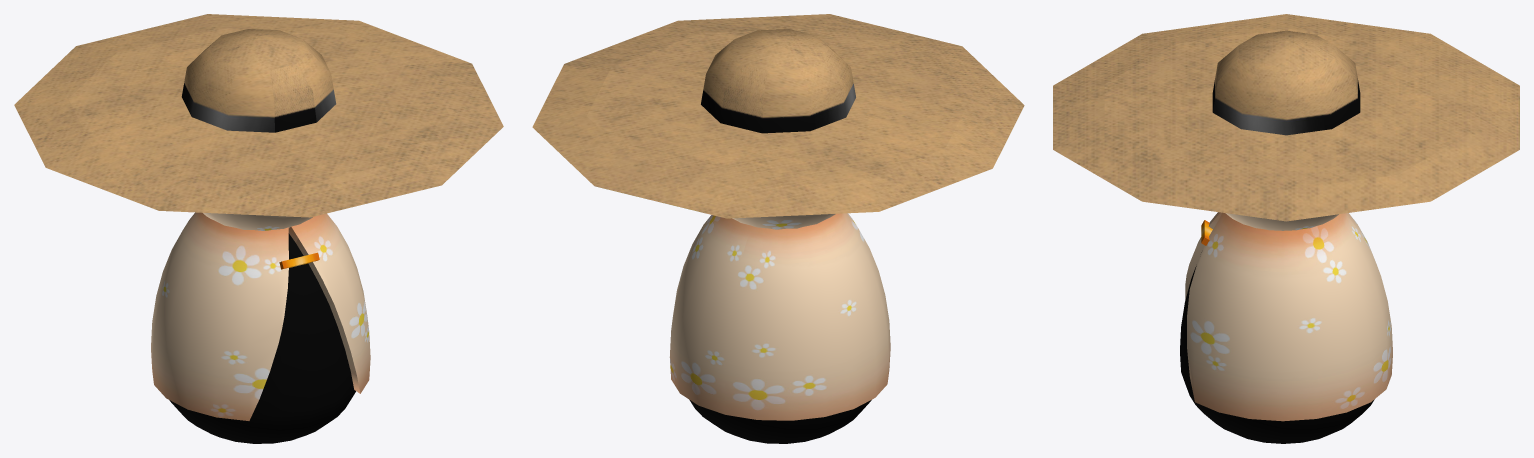
File: Tourist.fbx
3 views of the same model, side by side, from view 1: azimuth 30°, elevation 25°; view 2: azimuth 150°, elevation 25°; view 3: azimuth 270°, elevation 25° (orthographic).
Parts seen in each view (by area): view 1: pSphere6; view 2: pSphere6; view 3: pSphere6.
Part boxes in pixels (<box>): pSphere6: <box>14,14,503,443</box>; pSphere6: <box>532,14,1024,443</box>; pSphere6: <box>1053,14,1519,443</box>.
Bounding box in the file's own units: 21.05 × 18.47 × 20.02.
